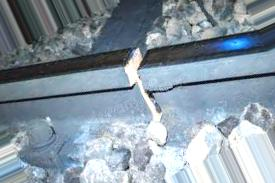tracks_fault: (104, 37, 182, 160)
